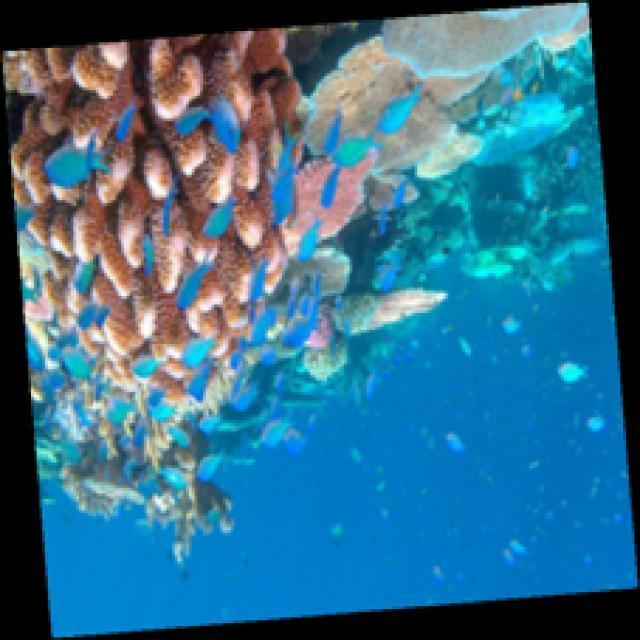Healthy: (2, 26, 303, 401), (302, 35, 495, 172), (382, 2, 590, 82), (292, 147, 379, 247), (366, 289, 456, 332), (418, 132, 484, 181), (539, 13, 592, 53), (305, 307, 335, 352)
